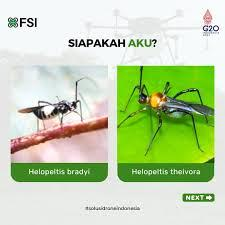Helopeltis-insect: (137, 85, 209, 122), (28, 95, 85, 123)
